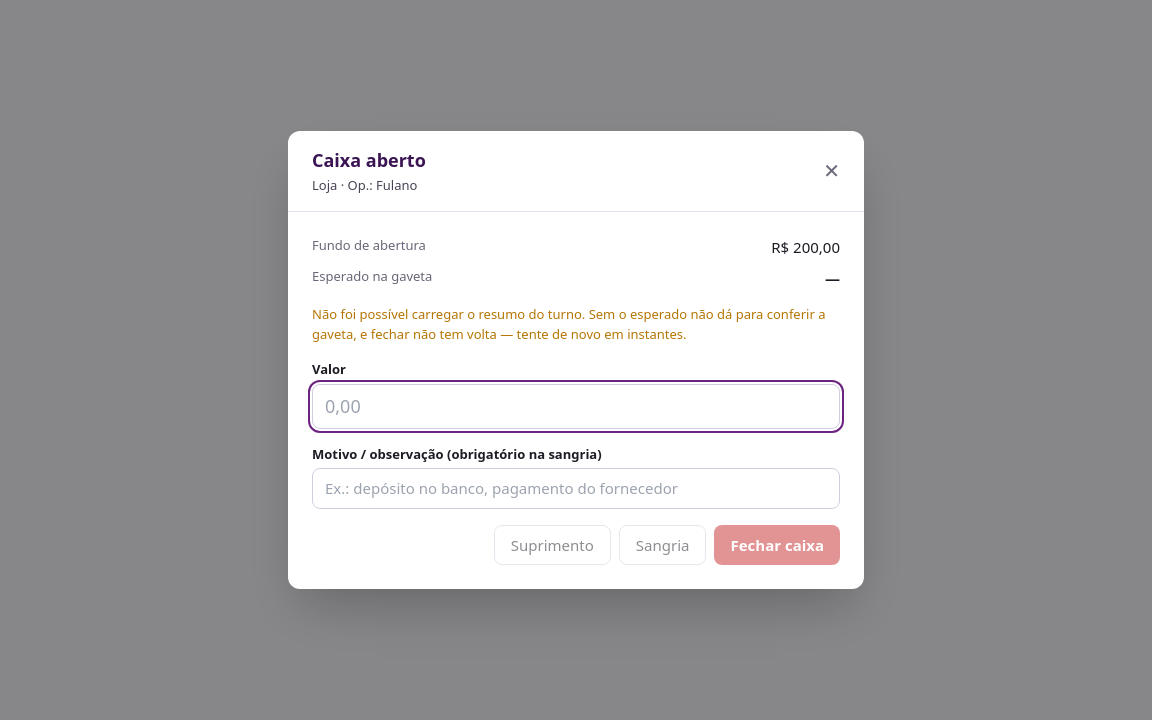
H-caixa-seguranca-M01 — a ação no diálogo com a gaveta já fechada em outro lugar › com o pedido de senha do gestor na tela, a gaveta morta fecha o pedido também
Check: the text "—" is shown, box x1=825 y1=268 x2=840 y2=288
Type "800,00" into the field labelled "Valor" at x=576, y=406, box x1=312 y1=384 x2=840 y2=429
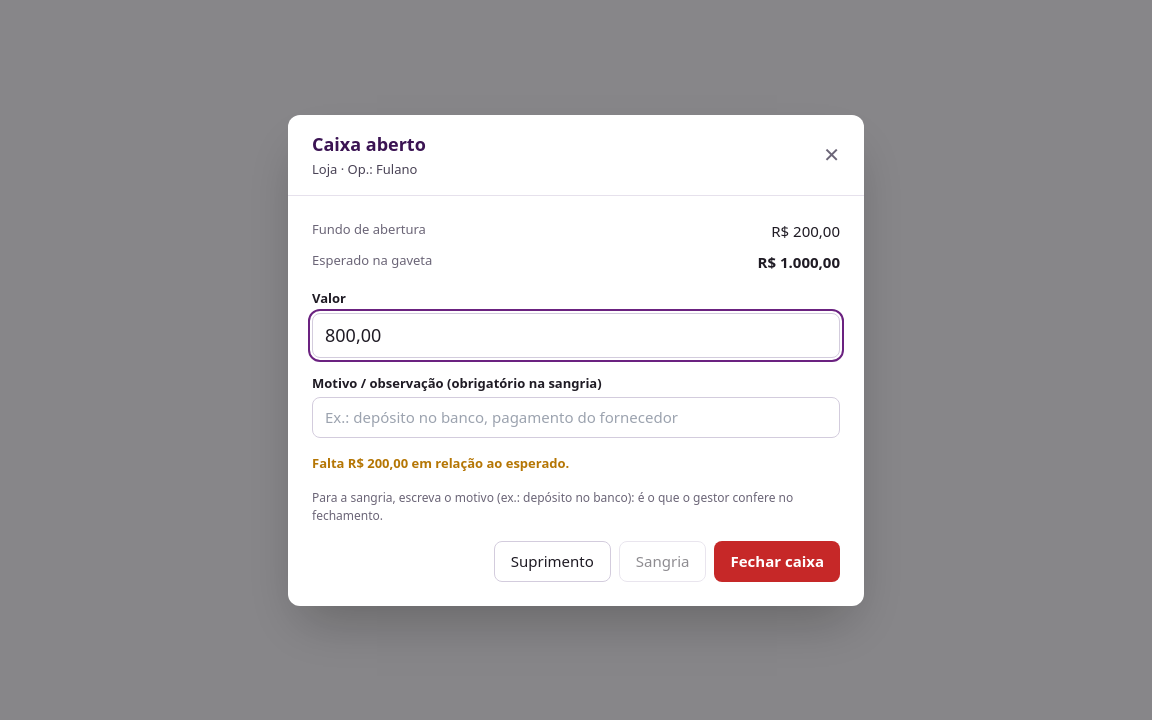
Type "depósito no banco" into the field named "Motivo (obrigatório na sangria)" at x=576, y=417, box x1=312 y1=397 x2=840 y2=438
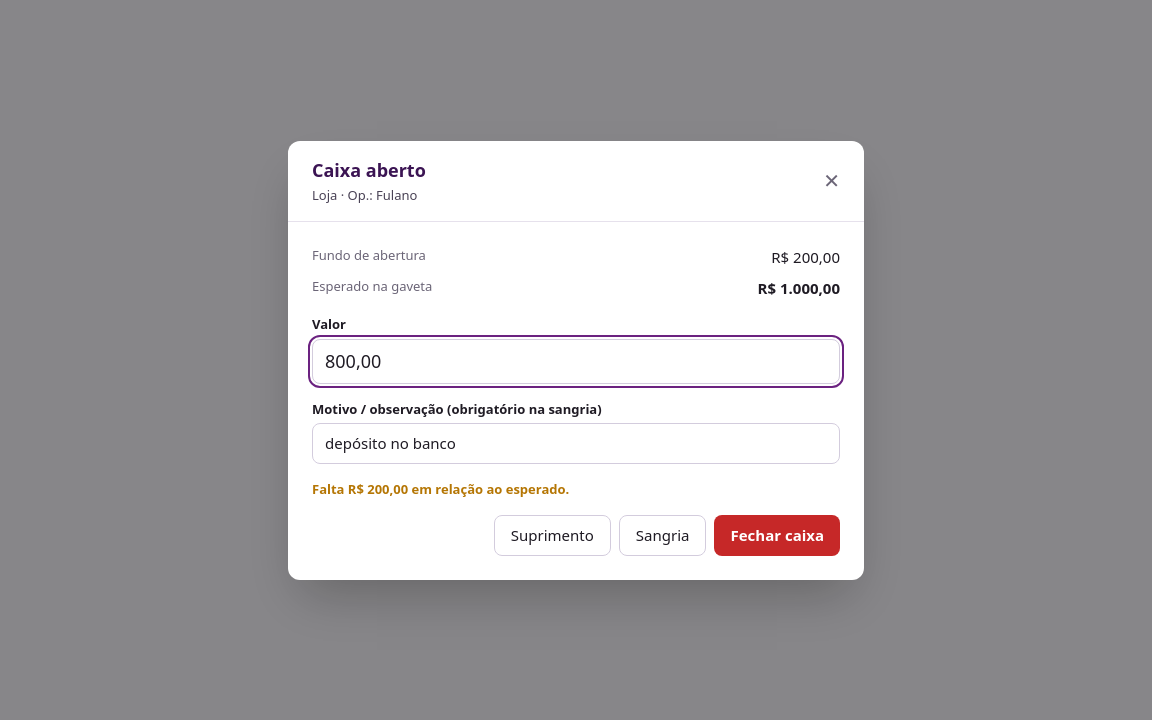
Click the button "Sangria" at x=663, y=535, box x1=619 y1=515 x2=706 y2=556
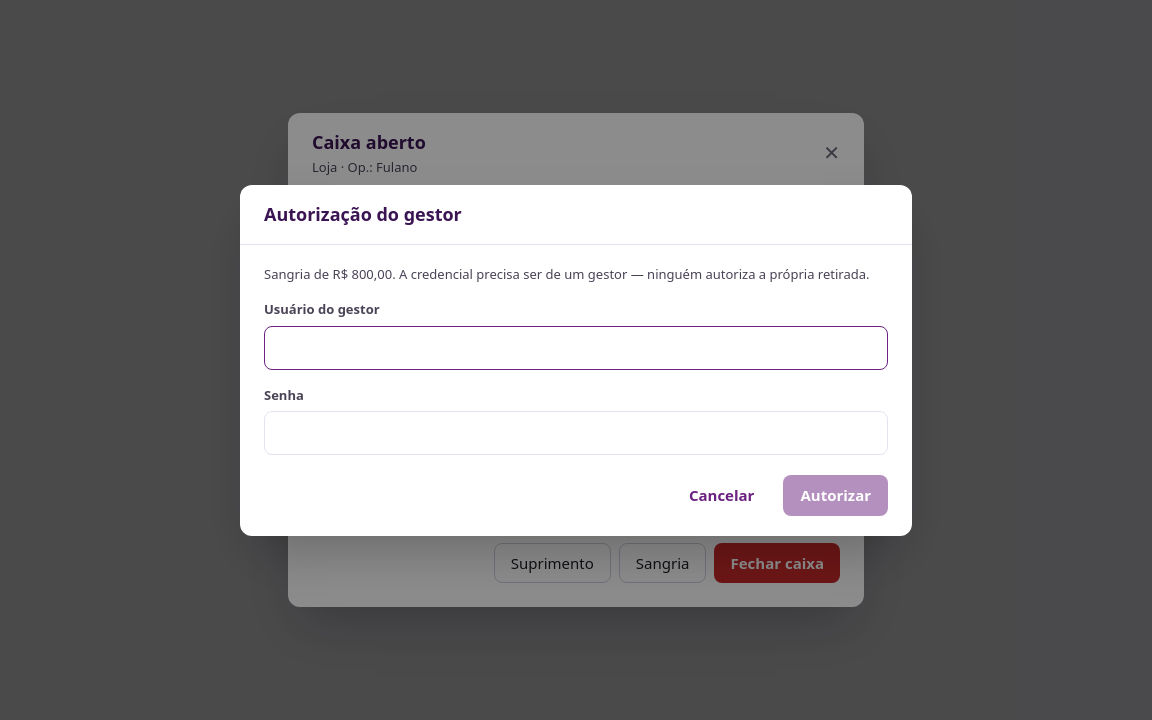
Check: the dialog labelled "Autorização do gestor" is shown
Type "gerente" into the field labelled "Usuário do gestor" at x=576, y=348, box x1=264 y1=326 x2=888 y2=370
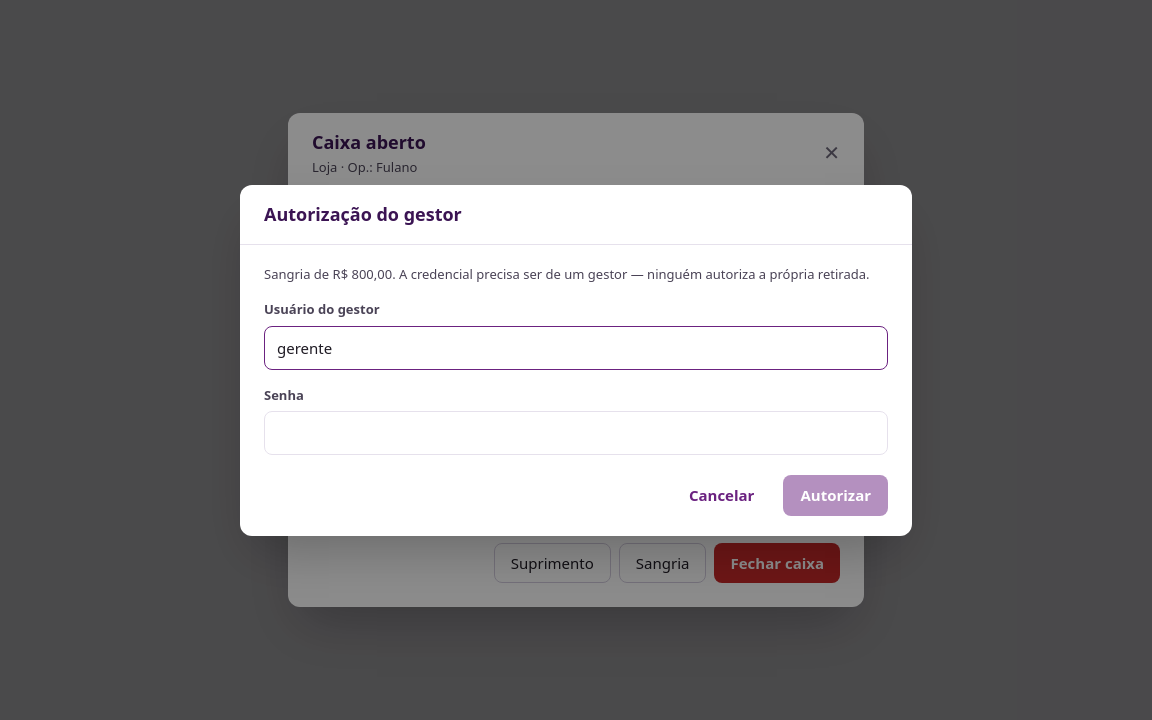
Type "segredo" into the password field labelled "Senha" at x=576, y=433, box x1=264 y1=411 x2=888 y2=455
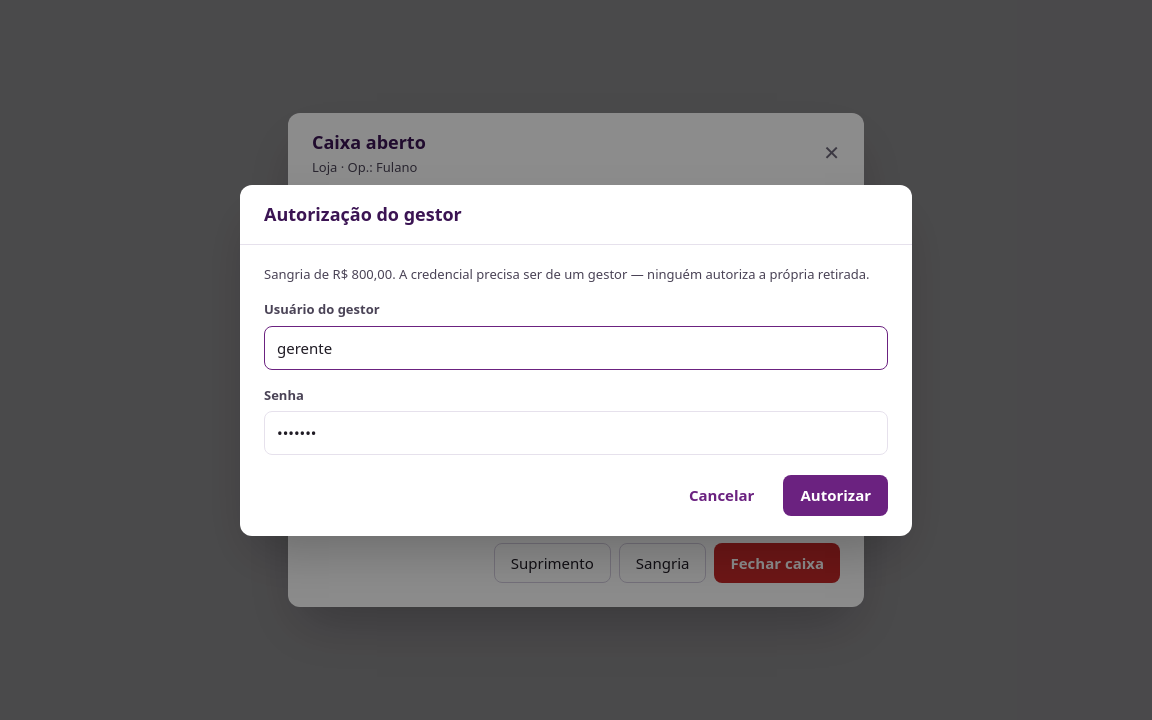
Click the button "Autorizar" at x=836, y=495, box x1=783 y1=475 x2=888 y2=516
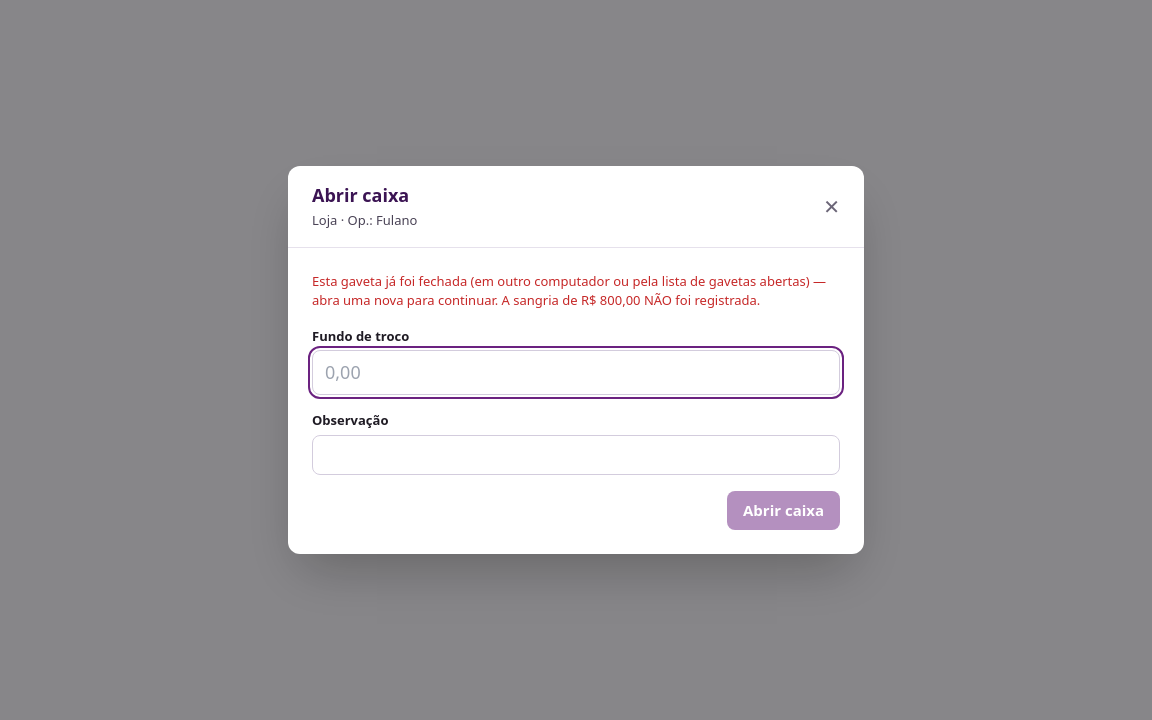
Check: the message is shown, box x1=312 y1=272 x2=840 y2=311
Check: the heading labelled "Autorização do gestor" is gone
Check: the heading "Abrir caixa" is shown, box x1=312 y1=182 x2=417 y2=209
